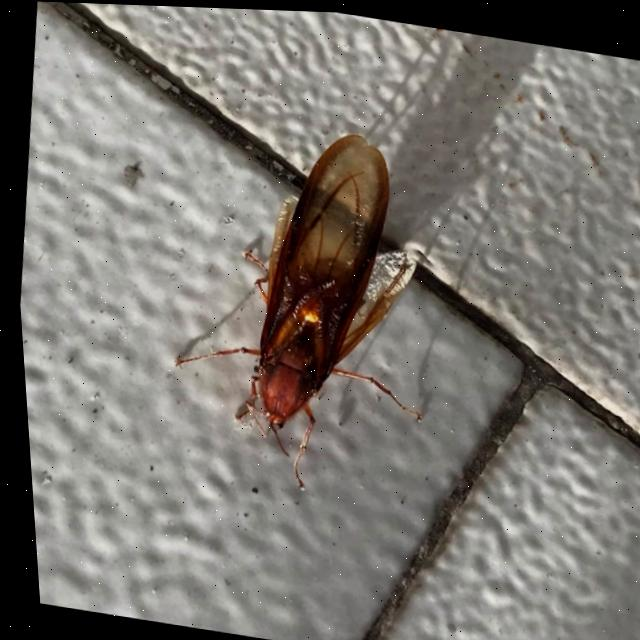Alive-Male-Alate: (143, 106, 454, 505)
